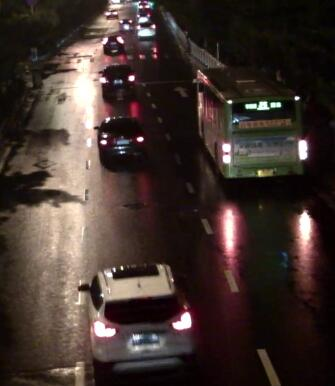bus: (189, 65, 312, 179)
car: (77, 262, 197, 372), (93, 115, 149, 161), (98, 63, 139, 94), (100, 31, 122, 51), (117, 15, 135, 31), (136, 24, 155, 38), (133, 0, 154, 10), (136, 11, 149, 24), (103, 7, 118, 17)
